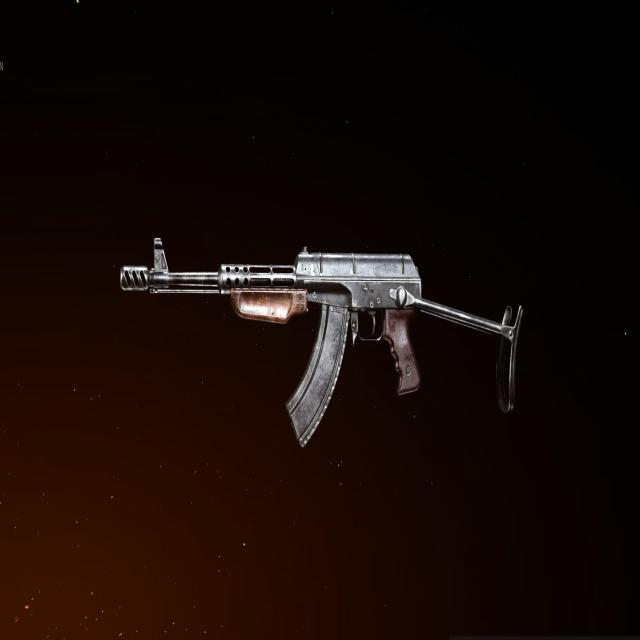Rifle: (119, 239, 518, 449)
